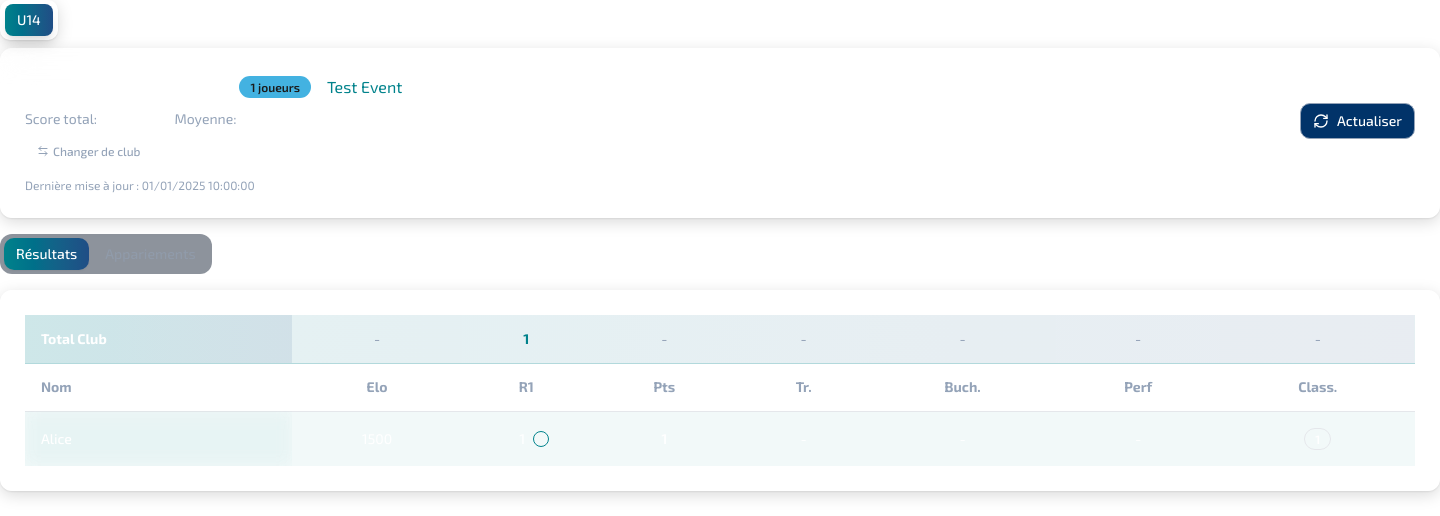
Test: TournamentTabs › Change Club › désactive le bouton Changer de club pendant le chargement
Click the button "Actualiser": (1357, 121) [1300,103,1415,139]
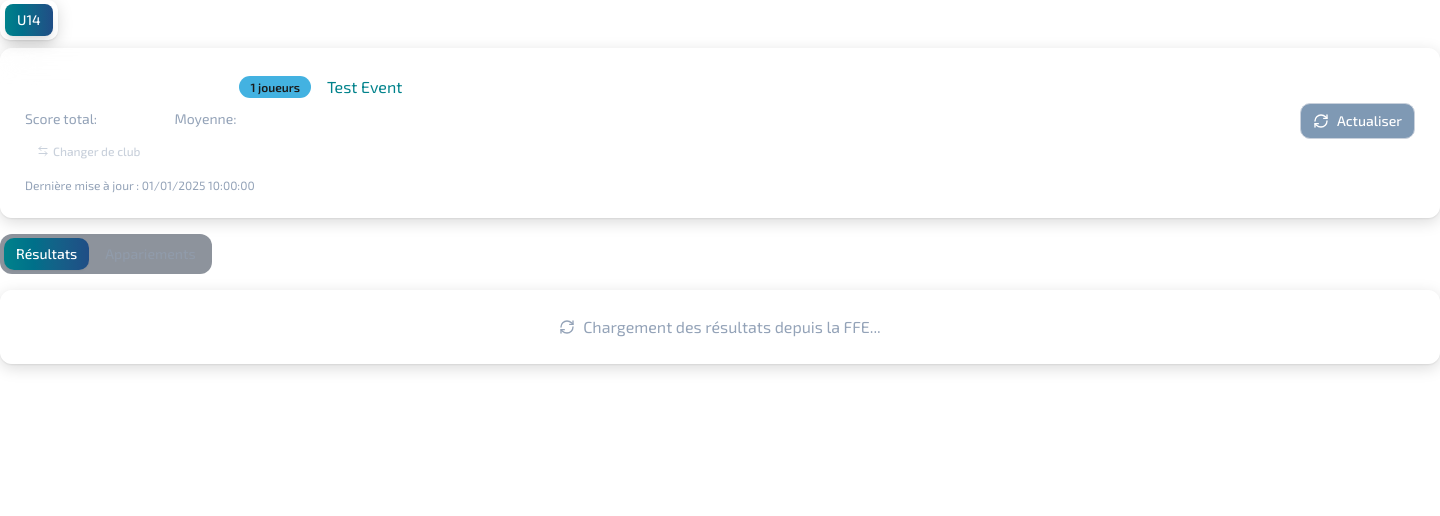
Result: the button "Changer de club" is disabled at [25,133,152,169]
